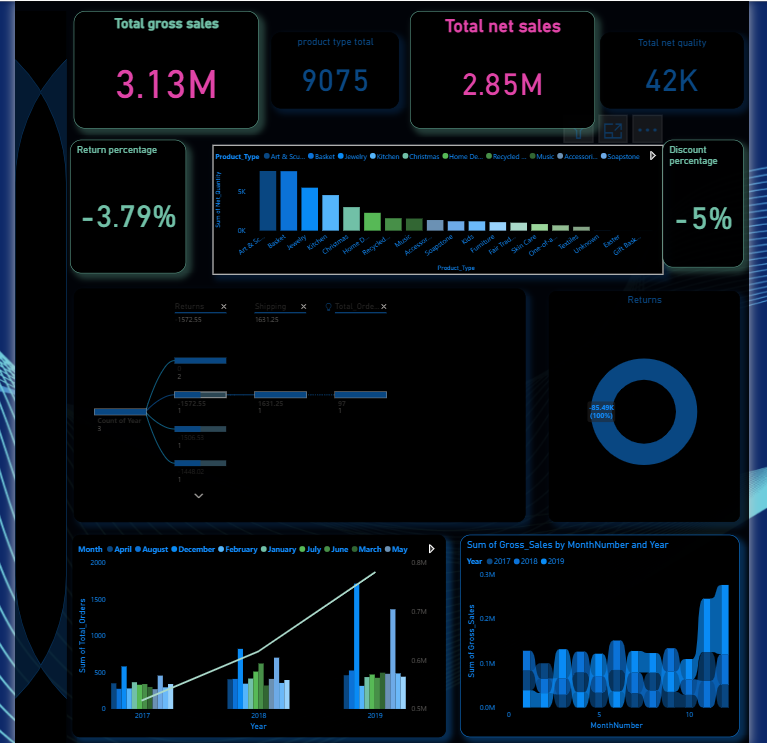

The dashboard page shown, as its layout file describes it:
{"tool":"powerbi","page":{"name":"Page 1","canvas":[1280,1300],"ordinal":0},"visuals":[{"type":"shape","box":[0,17.5,90,1282.5],"z":0},{"type":"columnChart","fields":{"Category":["ProductSales.Product_Type"],"Y":["Sum(ProductSales.Net_Quantity)"],"Series":["ProductSales.Product_Type"]},"box":[326.7,248.3,786.4,226.5],"z":4000},{"type":"card","title":"Total net sales","fields":{"Values":["Sum(ProductSales.Total_Net_Sales)"]},"box":[687.5,17.5,322.5,205],"z":5000},{"type":"card","title":"Total net quality","fields":{"Values":["Sum(ProductSales.Net_Quantity)"]},"box":[1020,55,250,132.5],"z":6000},{"type":"card","title":"product type total ","fields":{"Values":["CountNonNull(ProductSales.Product_Type)"]},"box":[447.5,55,222.5,132.5],"z":7000},{"type":"lineClusteredColumnComboChart","title":" Total Orders and  Total Sales by  Month,  and Year","fields":{"Category":["SummarySales.Year"],"Y":["Sum(SummarySales.Total_Orders)"],"Y2":["Sum(SummarySales.Total_Sales)"],"Series":["SummarySales.Month"]},"box":[100,930,650,352.5],"z":8000},{"type":"donutChart","title":"Returns","fields":{"Y":["Sum(SummarySales.Returns)"]},"box":[930,505,332.5,402.5],"z":9000},{"type":"decompositionTreeVisual","fields":{"Analyze":["Count(SummarySales.Year)"],"ExplainBy":["SummarySales.Returns","SummarySales.Shipping","SummarySales.Total_Orders"]},"box":[102.5,500,787.5,407.5],"z":10000},{"type":"ribbonChart","fields":{"Category":["SummarySales.MonthNumber"],"Series":["SummarySales.Year"],"Y":["Sum(SummarySales.Gross_Sales)"]},"box":[775,930,487.5,352.5],"z":11000},{"type":"card","title":"Total gross sales","fields":{"Values":["Sum(ProductSales.Gross_Sales)"]},"box":[102.5,17.5,322.5,205],"z":13000},{"type":"card","title":"Discount  percentage","fields":{"Values":["ProductSales.TOTAL DICUNT PRT"]},"box":[1130.5,248.3,141.6,222.2],"z":14000},{"type":"card","title":"Return percentage","fields":{"Values":["ProductSales.TOTAL RETURN PRT"]},"box":[95.8,241.8,202.6,233.1],"z":15000}]}

Visuals, with their boxes on the page's 1280x1300 design canvas (x1, y1, x2, y2). These are canvas units, not pixel positions in the 767x743 screenshot, which may show the page scaled, cropped or inside an application window:
shape: BBox(0, 18, 90, 1300)
columnChart - ProductSales.Product_Type x Sum(ProductSales.Net_Quantity): BBox(327, 248, 1113, 475)
"Total net sales" card: BBox(688, 18, 1010, 222)
"Total net quality" card: BBox(1020, 55, 1270, 188)
"product type total " card: BBox(448, 55, 670, 188)
" Total Orders and  Total Sales by  Month,  and Year" lineClusteredColumnComboChart: BBox(100, 930, 750, 1282)
"Returns" donutChart: BBox(930, 505, 1262, 908)
decompositionTreeVisual - Count(SummarySales.Year) x SummarySales.Returns: BBox(102, 500, 890, 908)
ribbonChart - SummarySales.MonthNumber x SummarySales.Year: BBox(775, 930, 1262, 1282)
"Total gross sales" card: BBox(102, 18, 425, 222)
"Discount  percentage" card: BBox(1130, 248, 1272, 470)
"Return percentage" card: BBox(96, 242, 298, 475)
